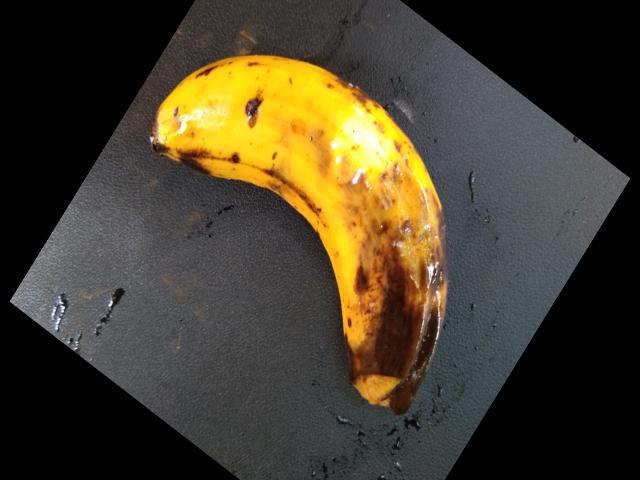overripe: (123, 37, 344, 215)
rotten: (298, 118, 467, 429)
